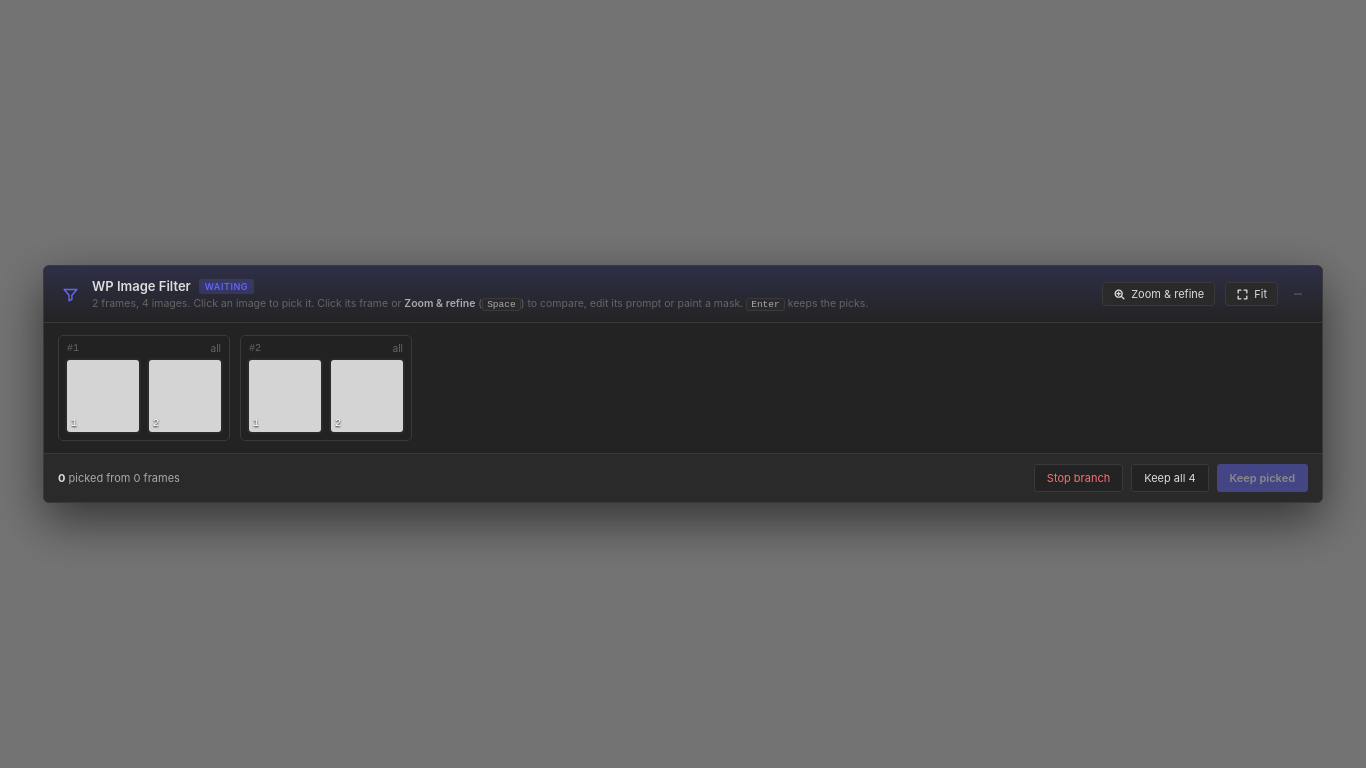
PickerModal › clicking a frame zooms its first image; clicking an image only picks it
Step 1. Click the button with test id "image-filter-tile-1-1" → (367, 396), box [329,358,405,434]
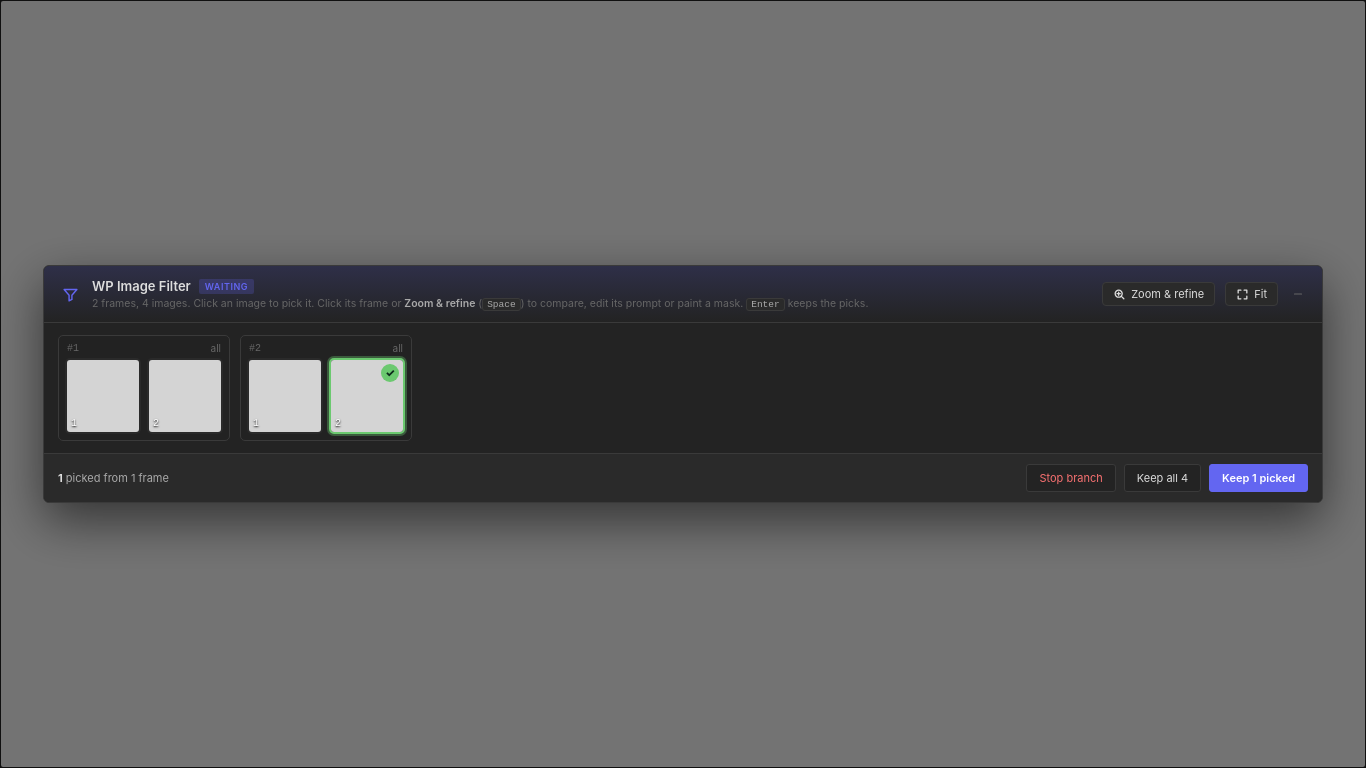
Result: the element with test id "image-filter-status" shows "1 picked" at [58,471,169,485]
Step 2. Click the element with class "wp-ifp__frame-label" showing "#2" → (255, 348), box [249,342,261,354]
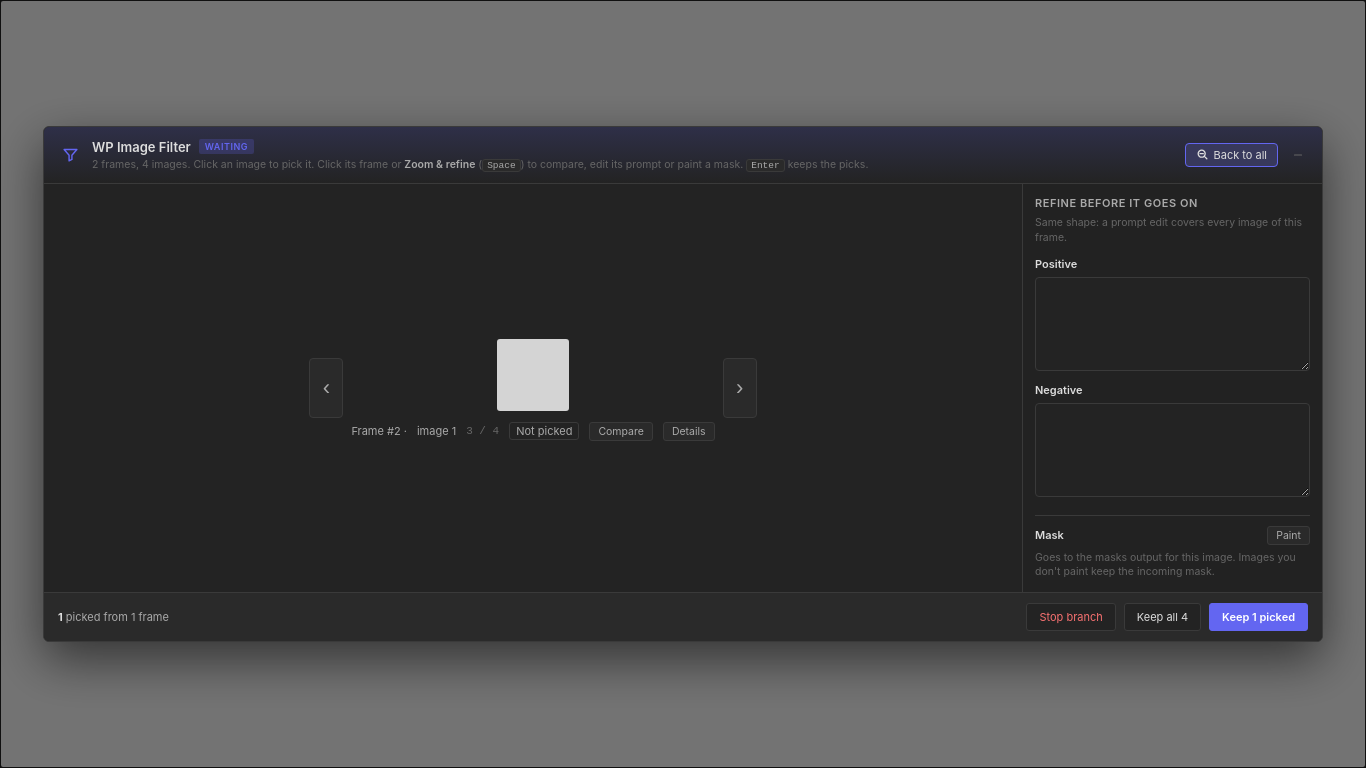
Result: the element with test id "image-filter-zoom" shows "image 1" at [417,424,456,438]
